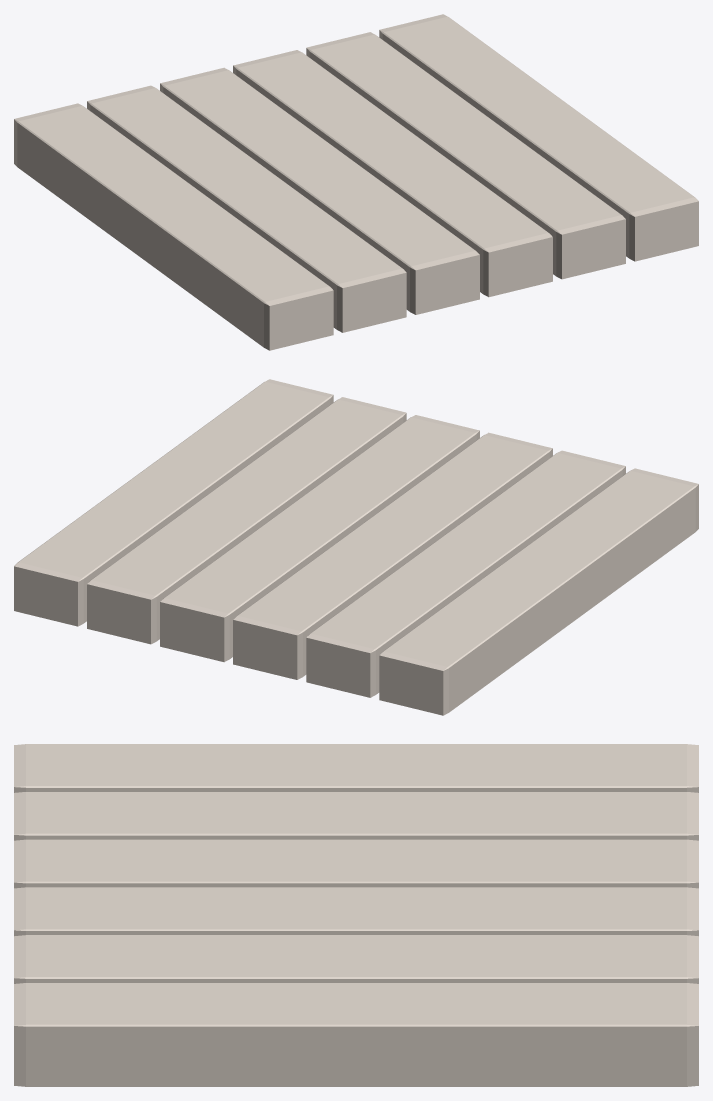
File: track1.obj
3 renders of one model, top to bottom at view 1: azimuth 30°, elevation 25°; view 2: azimuth 150°, elevation 25°; view 3: azimuth 270°, elevation 25°, orthographic. The views are drawn at different scales.
Visible parts, largest first — view 1: 立方体; view 2: 立方体; view 3: 立方体.
Boxes of the visible parts, x1=… form: 立方体: x1=14, y1=14, x2=698, y2=350; 立方体: x1=14, y1=379, x2=698, y2=715; 立方体: x1=14, y1=744, x2=698, y2=1086.
Size of the model in its own units: 1.95 by 0.2 by 2.
Materials: 1 (1 with a texture image).
